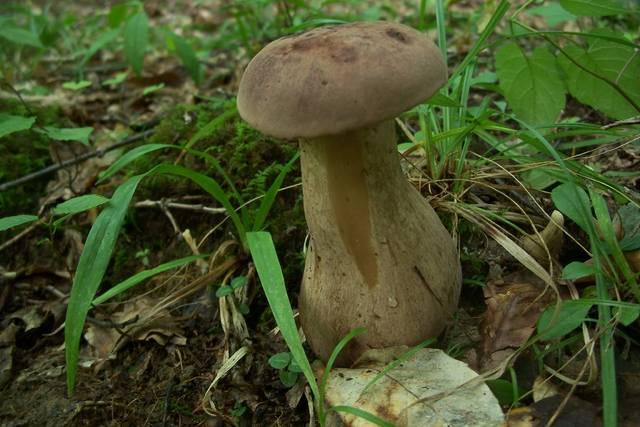poisonous_mushroom: (235, 19, 463, 367)
